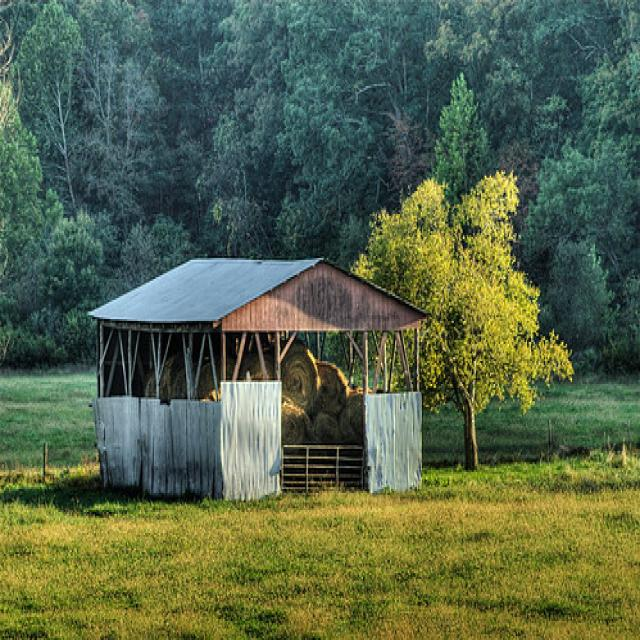Normal_building: (82, 249, 428, 513)
